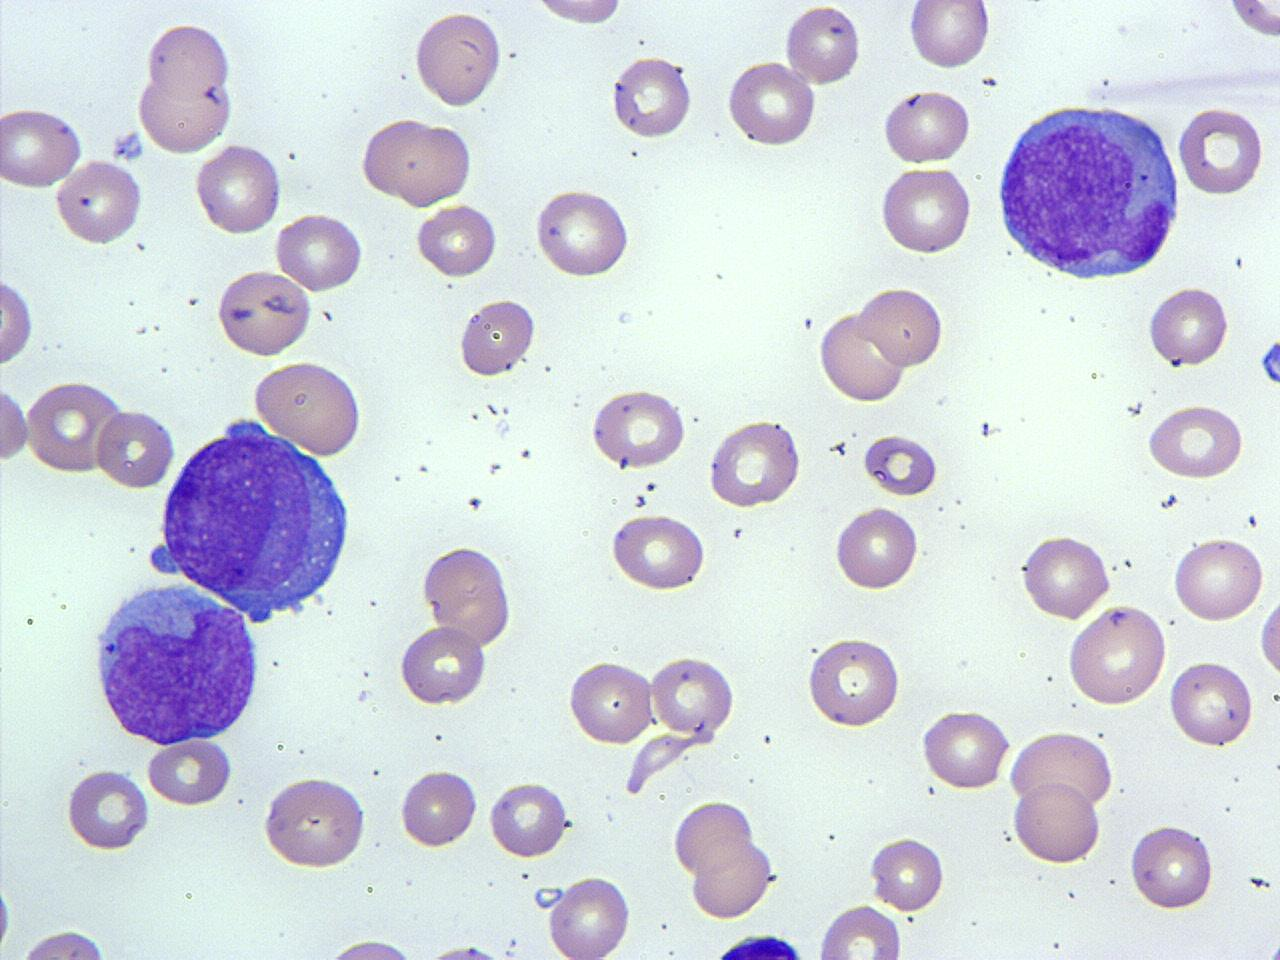Platelets: (702, 930, 812, 960), (422, 938, 508, 960), (0, 876, 17, 958), (1256, 337, 1280, 390), (112, 129, 146, 163)
RBC: (251, 358, 367, 460), (1066, 602, 1170, 710), (260, 772, 371, 872), (418, 542, 516, 650), (23, 378, 125, 476), (531, 185, 632, 280), (705, 417, 806, 511), (803, 636, 905, 730), (413, 8, 503, 111), (1006, 729, 1118, 811), (214, 268, 314, 358), (372, 118, 475, 206), (878, 164, 974, 258), (191, 140, 282, 238), (724, 57, 818, 150), (1170, 534, 1266, 626), (134, 69, 236, 154), (816, 307, 905, 404), (53, 155, 145, 249), (1016, 532, 1112, 622), (1166, 656, 1256, 751), (589, 386, 689, 470), (1009, 778, 1103, 868), (1126, 820, 1215, 914), (565, 656, 656, 748), (686, 829, 776, 922), (1176, 103, 1264, 198), (831, 502, 921, 594), (272, 209, 366, 295), (606, 513, 708, 593), (1143, 402, 1245, 481), (545, 872, 634, 960), (608, 53, 694, 142), (920, 708, 1012, 792), (62, 766, 151, 852), (879, 86, 973, 166), (0, 103, 86, 191), (649, 651, 735, 739), (398, 624, 488, 708), (144, 19, 234, 102), (1146, 282, 1230, 370), (671, 798, 760, 880), (95, 404, 176, 492), (863, 284, 945, 370), (398, 764, 479, 852), (454, 295, 536, 380), (414, 200, 500, 280), (784, 3, 864, 89), (487, 778, 569, 860), (623, 723, 712, 799), (145, 734, 236, 808), (866, 832, 946, 914), (906, 0, 992, 73), (862, 430, 940, 500), (814, 902, 906, 958), (5, 925, 132, 959), (0, 275, 36, 367), (529, 0, 629, 29), (0, 375, 31, 468), (309, 936, 424, 960), (1255, 584, 1279, 686), (1226, 0, 1280, 44)
WBC: (155, 413, 356, 626), (990, 93, 1188, 292), (85, 577, 266, 749), (686, 928, 820, 958)
